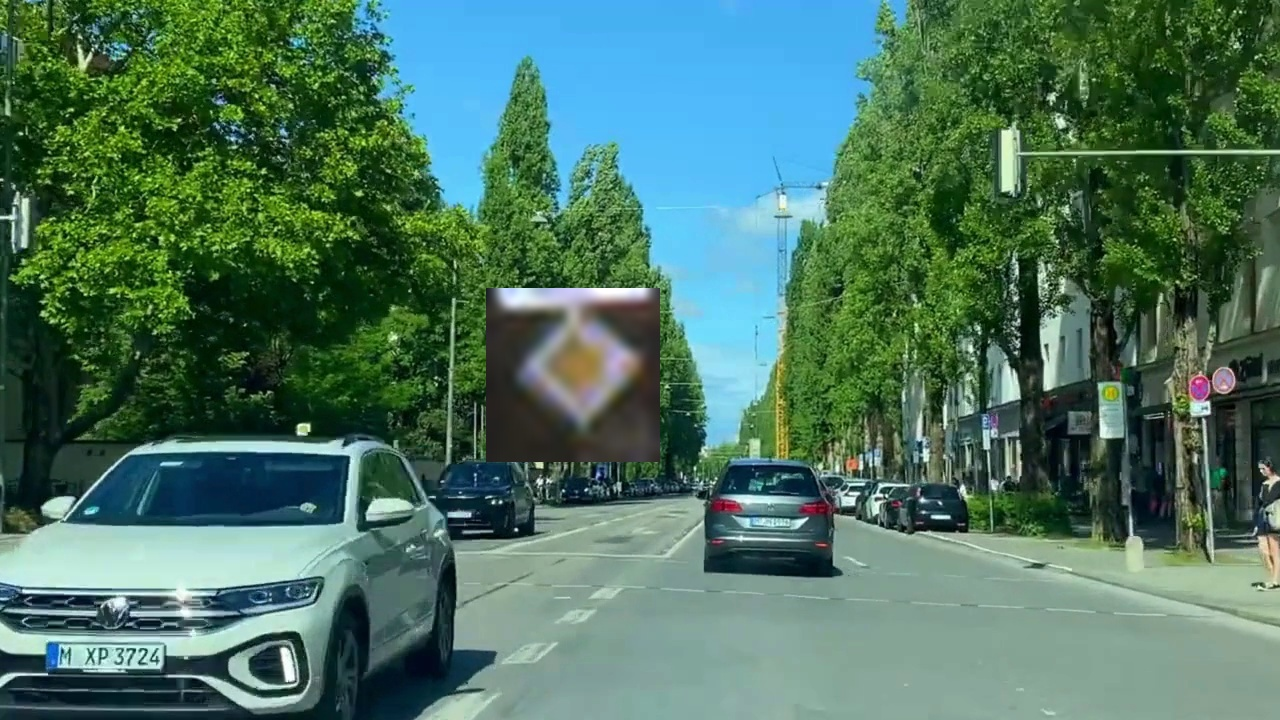Priority road: (486, 288, 660, 462)
